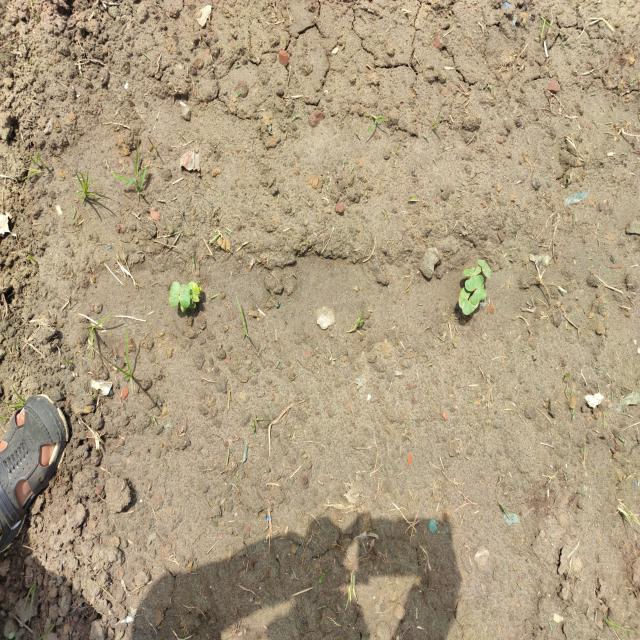seedling_s1: (168, 281, 181, 307), (462, 296, 479, 315), (465, 275, 484, 291), (471, 286, 486, 304), (179, 284, 190, 308), (478, 260, 491, 279), (459, 287, 471, 307), (188, 282, 199, 301), (464, 266, 482, 276)
